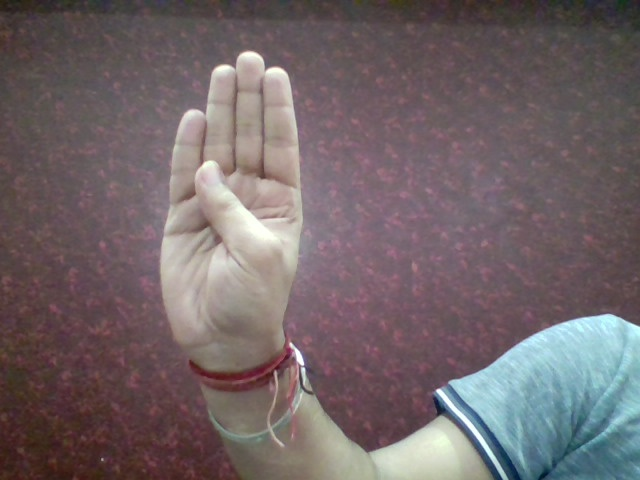b: (145, 48, 312, 346)
